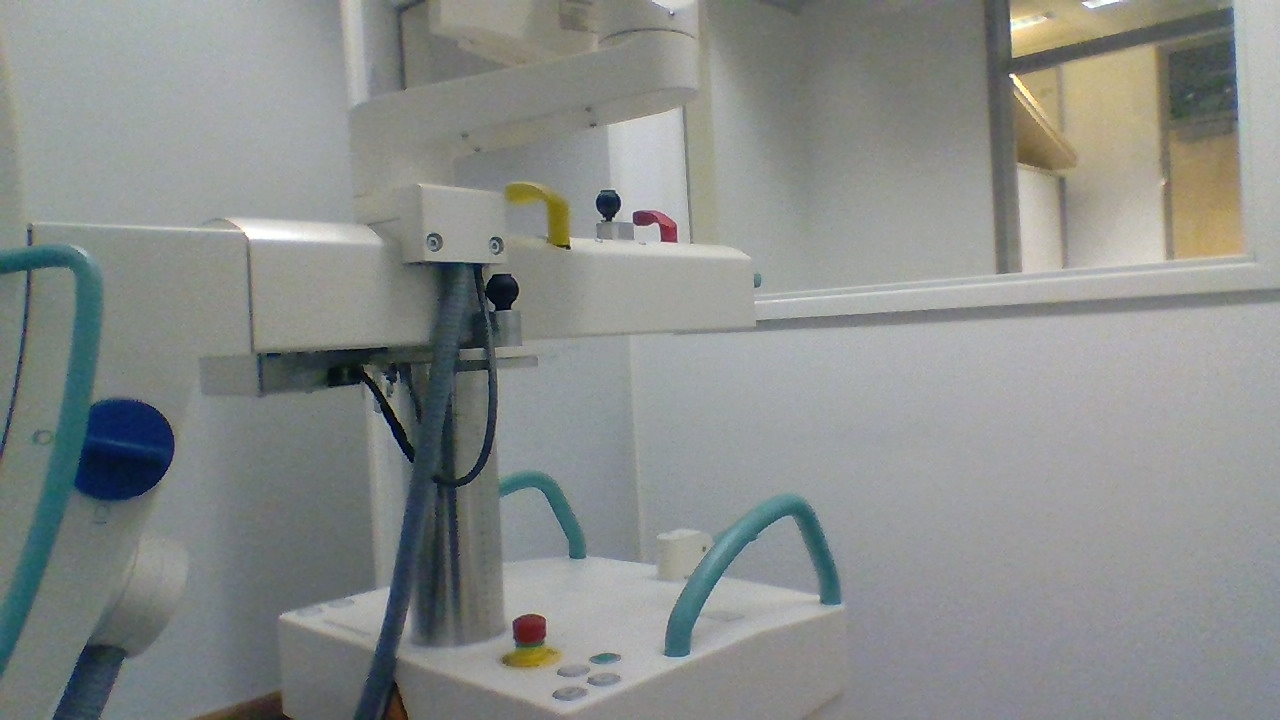carmBACK: (655, 521, 765, 582)
carmLOCK: (65, 395, 177, 500)
